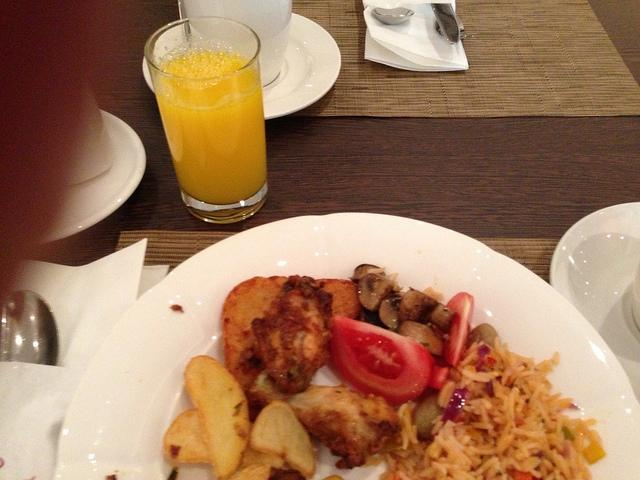mushroom: (397, 321, 446, 355), (398, 287, 438, 325), (358, 273, 394, 312), (378, 292, 406, 333), (428, 303, 456, 334)
potato: (184, 355, 250, 480), (162, 409, 284, 469), (250, 400, 317, 480), (228, 464, 272, 480)
tomato: (328, 314, 436, 406), (444, 292, 474, 368)
